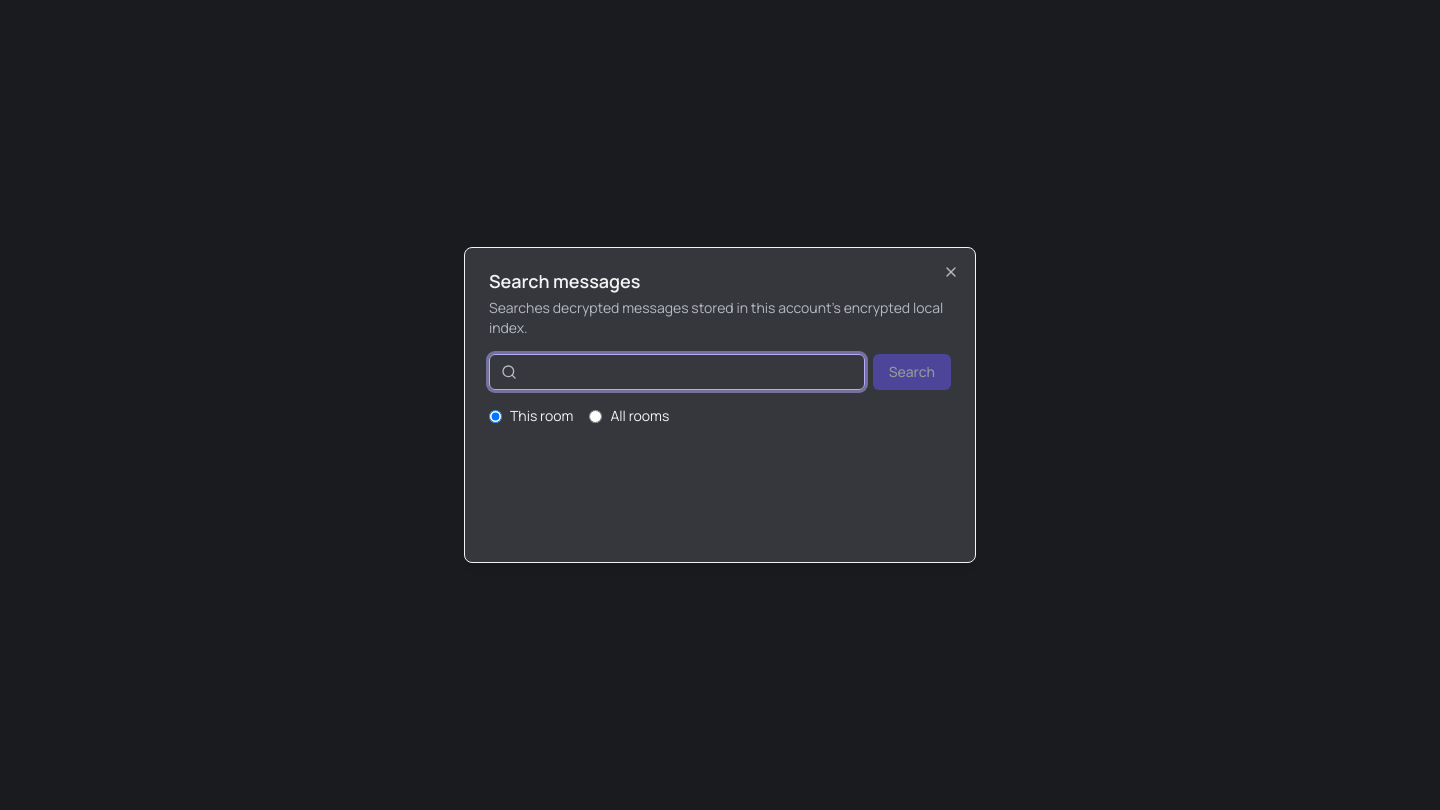
Test: MessageSearchDialog › searches all rooms and appends a cursor page
Click the radio button labelled "All rooms" at (596,416), box [589,410,602,422]
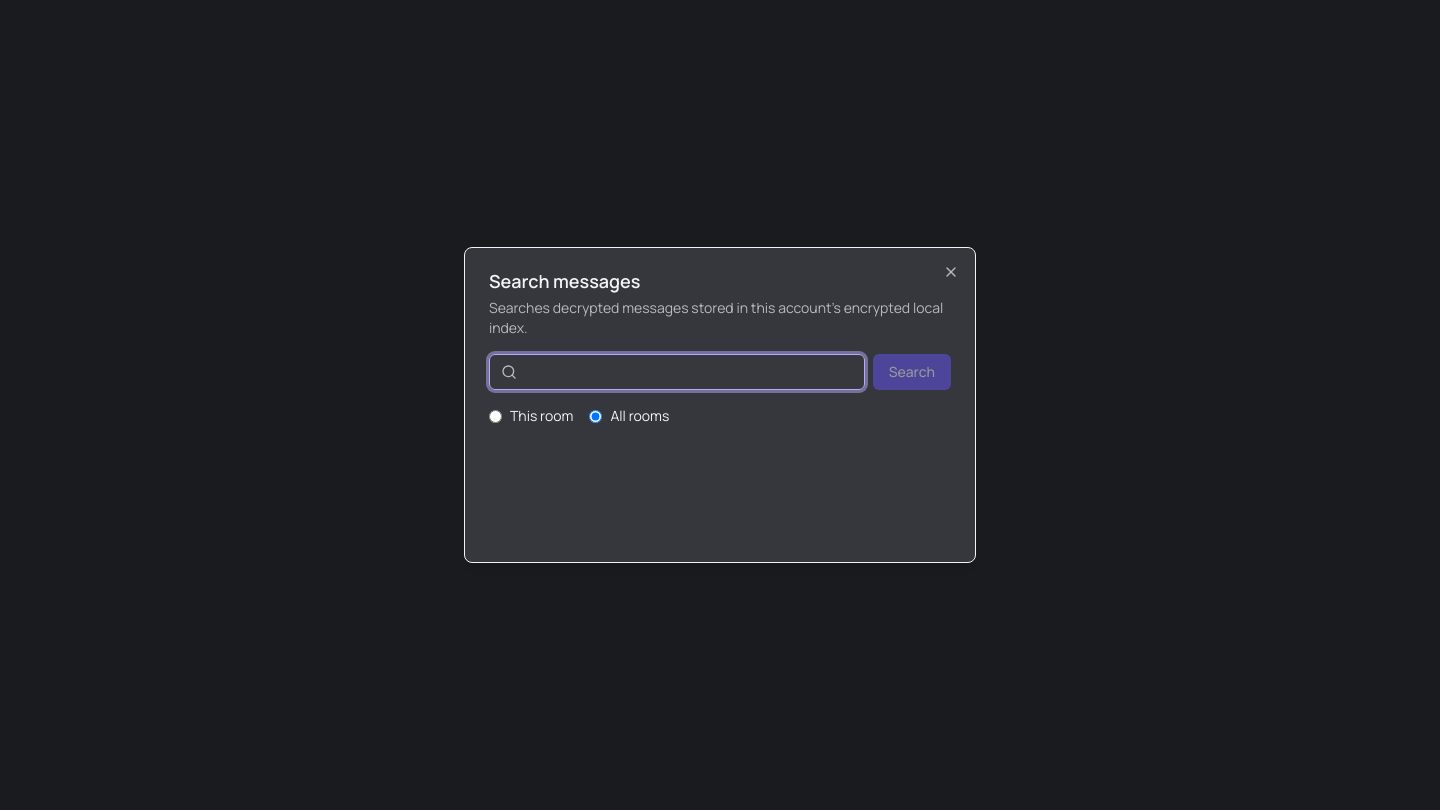
Type "result" into the search field named "Message search query" at (677,372), box [489,354,865,390]
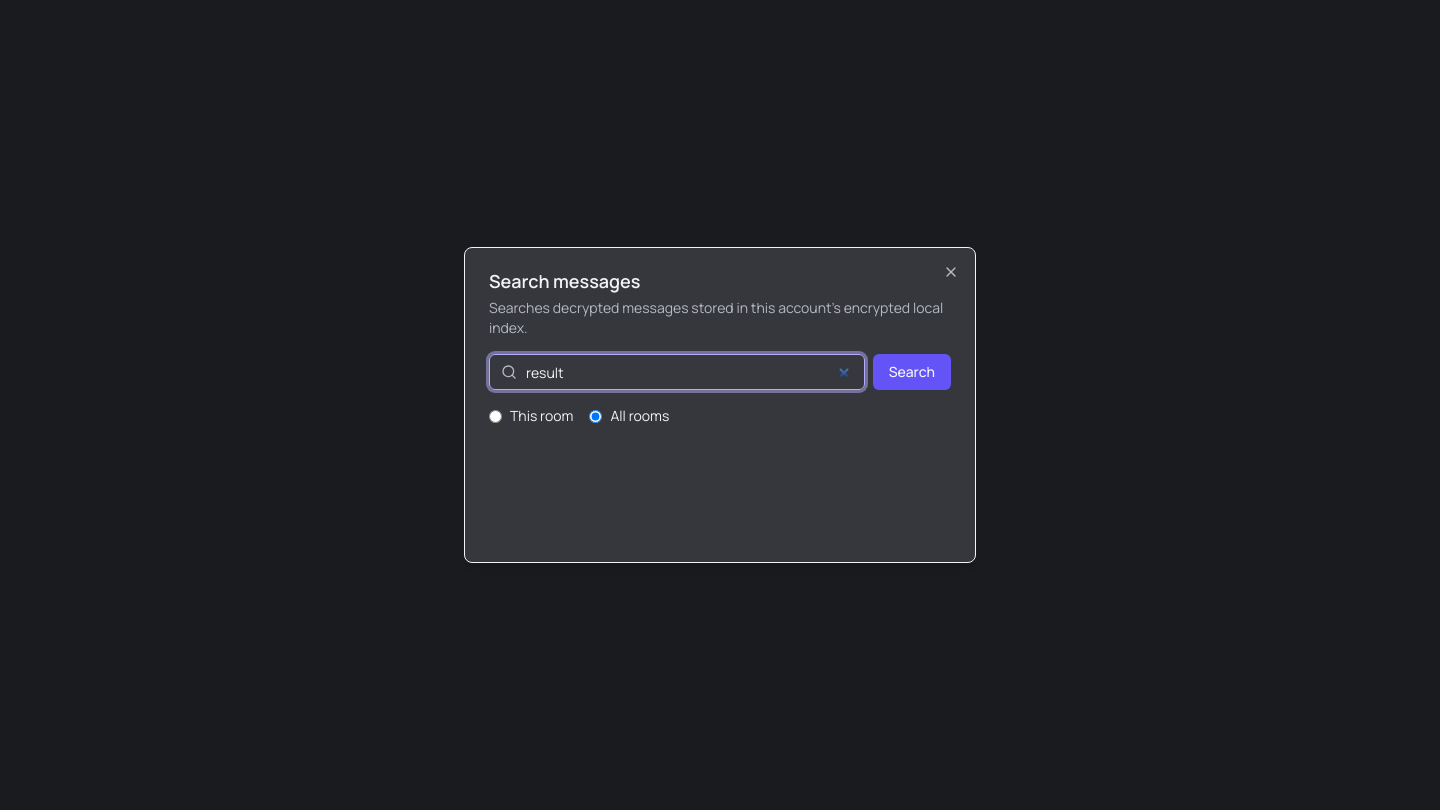
Click the button "Search" at (912,372), box [873,354,951,390]
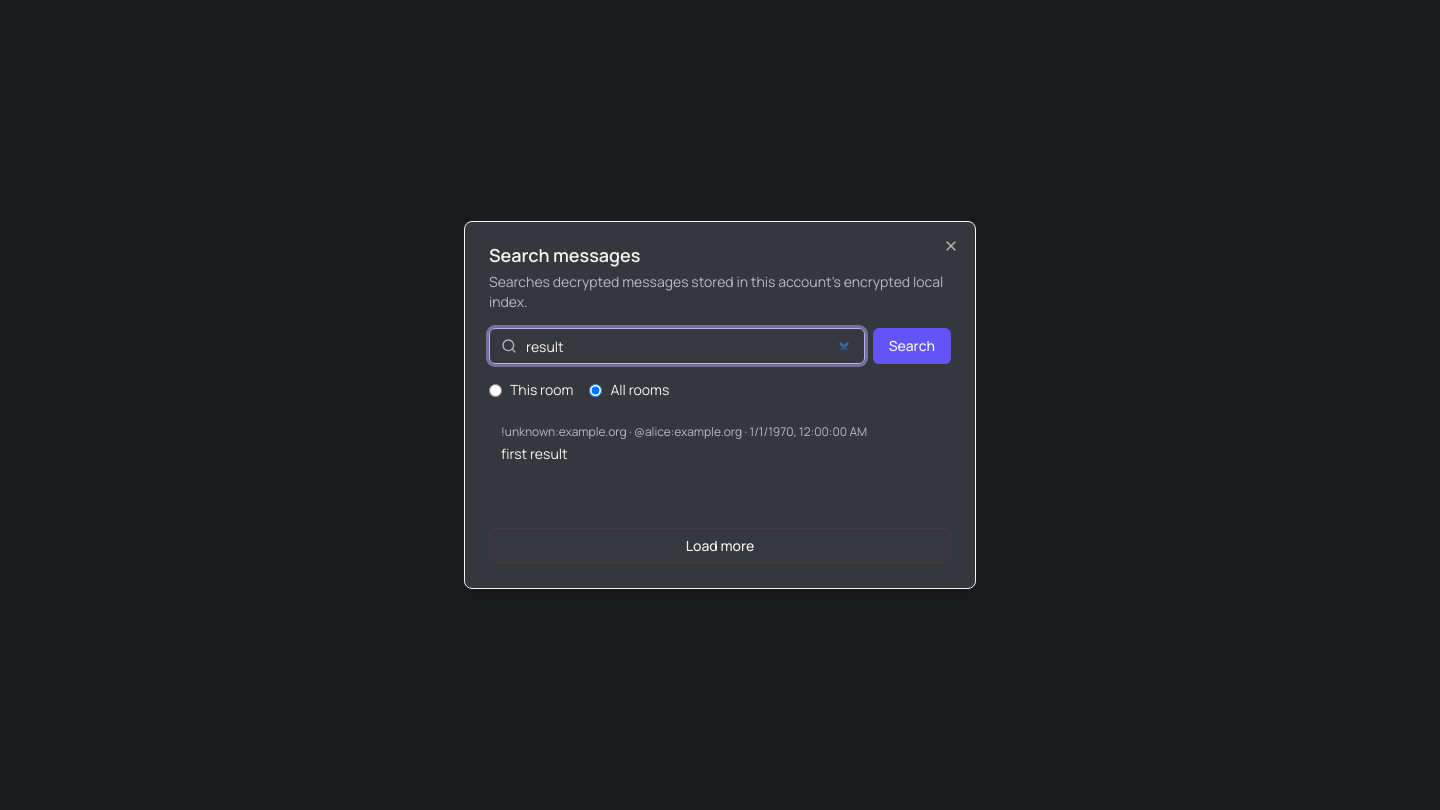
Check: the text "first result" is shown, box [501,444,568,463]
Check: the text "!unknown:example.org" is shown, box [501,423,627,440]
Click the button "Load more" at (720,546), box [489,528,951,564]
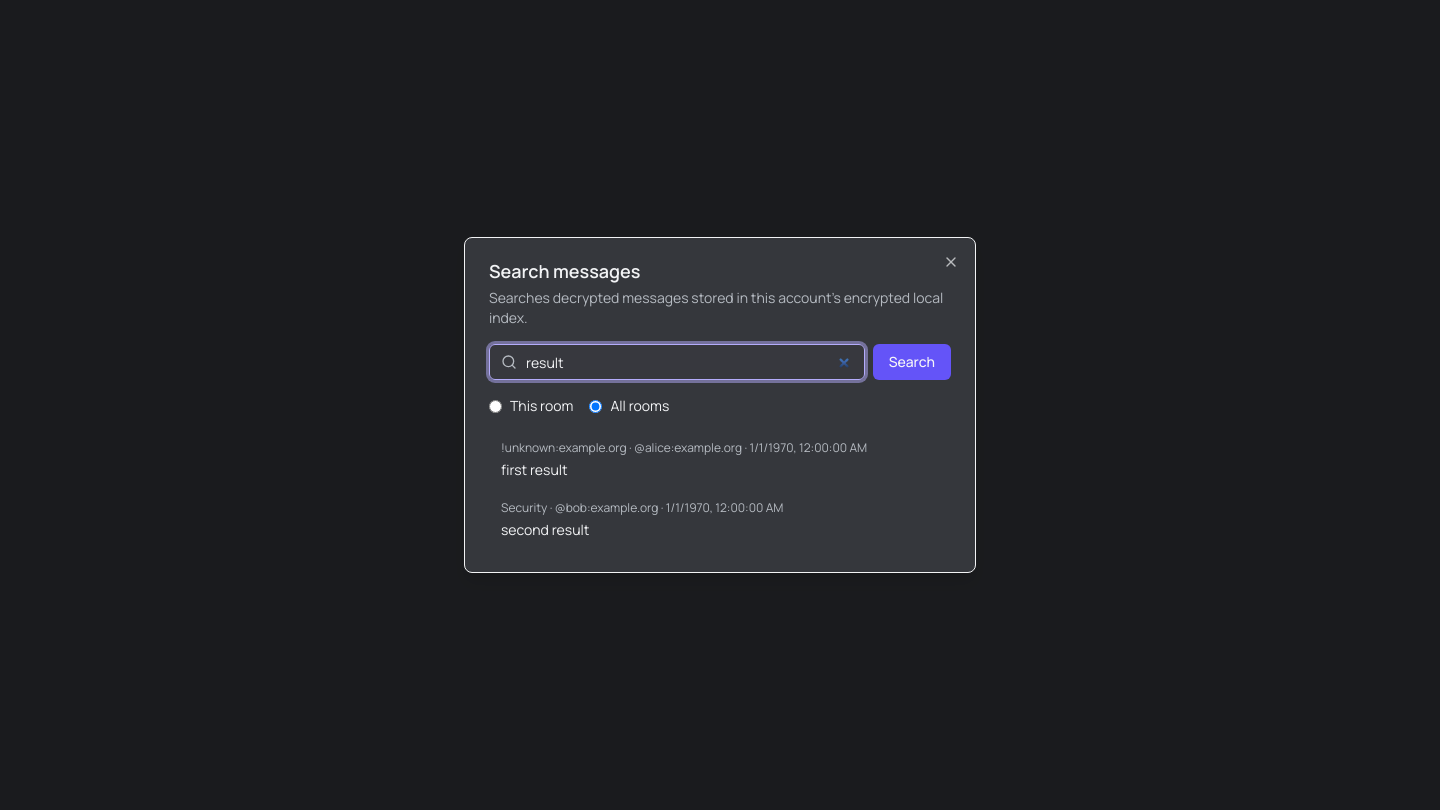
Check: the text "first result" is shown, box [501,460,568,479]
Check: the text "second result" is shown, box [501,520,589,539]
